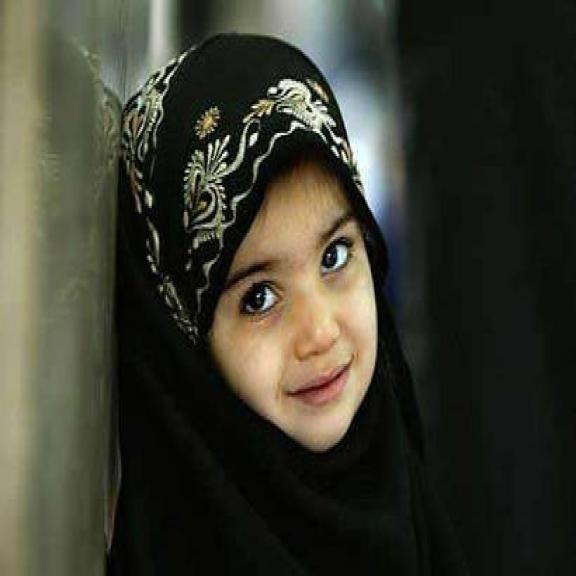face: (202, 155, 383, 462)
